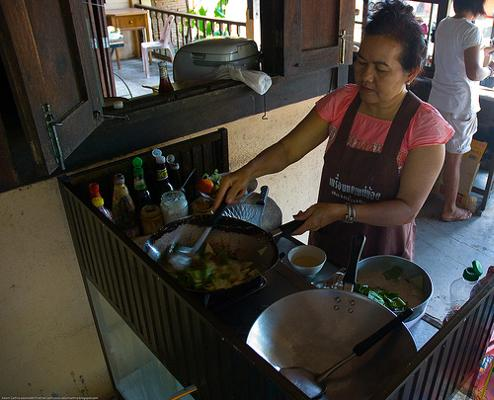person: (215, 6, 449, 270)
